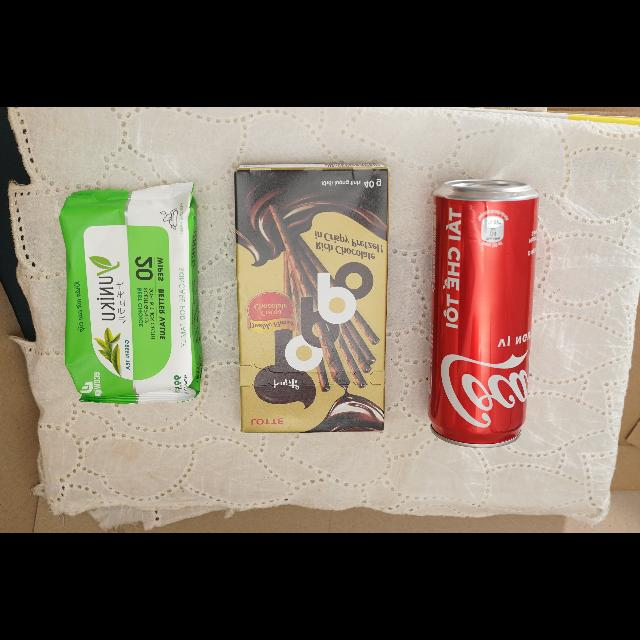banh_toppo_socola: (235, 164, 389, 433)
coca_cola: (429, 179, 538, 447)
khan_giay: (59, 183, 203, 403)
